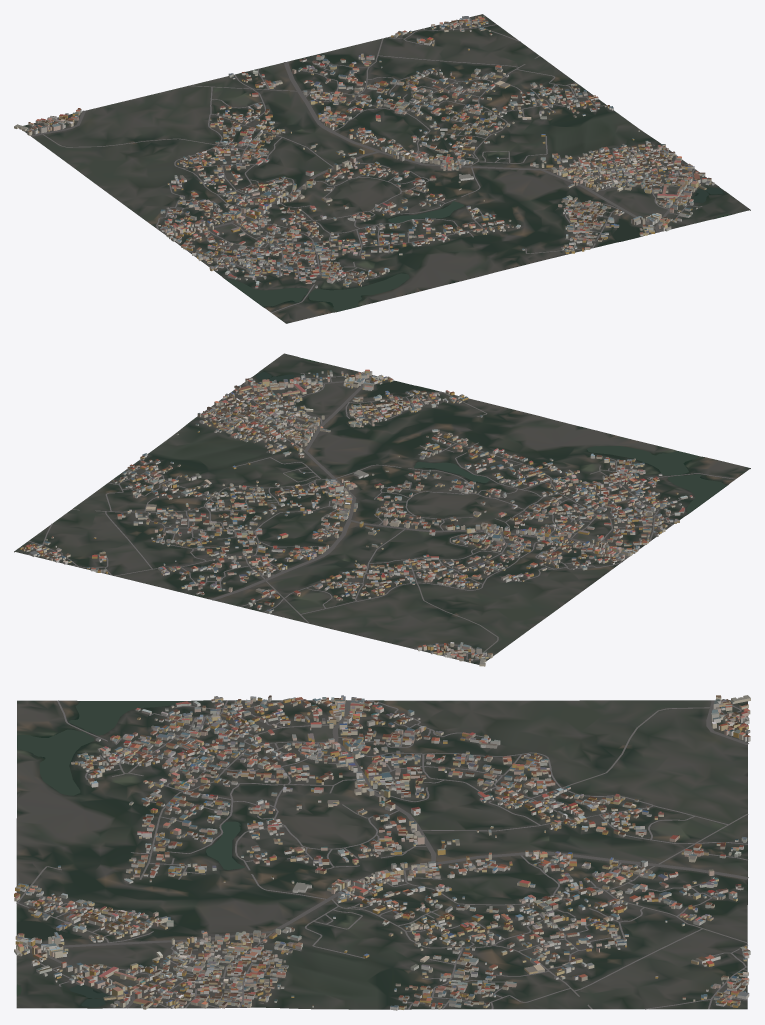
3 renders of one model, top to bottom at view 1: azimuth 30°, elevation 25°; view 2: azimuth 150°, elevation 25°; view 3: azimuth 270°, elevation 25°, orthographic. The views are drawn at different scales.
Visible parts, largest first — view 1: ground, buildings, roads, water; view 2: ground, buildings, roads, water; view 3: ground, buildings, roads, water.
Part boxes in pixels (left/top/right/bottom): ground: left=23, top=14, right=750, bottom=323; buildings: left=14, top=15, right=714, bottom=288; roads: left=30, top=17, right=707, bottom=312; water: left=225, top=187, right=731, bottom=311; ground: left=14, top=353, right=750, bottom=664; buildings: left=19, top=369, right=692, bottom=666; roads: left=28, top=373, right=735, bottom=659; water: left=256, top=358, right=726, bottom=513; ground: left=16, top=700, right=747, bottom=1009; buildings: left=14, top=695, right=750, bottom=1010; roads: left=16, top=700, right=748, bottom=1009; water: left=17, top=701, right=244, bottom=1007.
Bounding box in the file's own units: 1418 × 22.2 × 1413.
